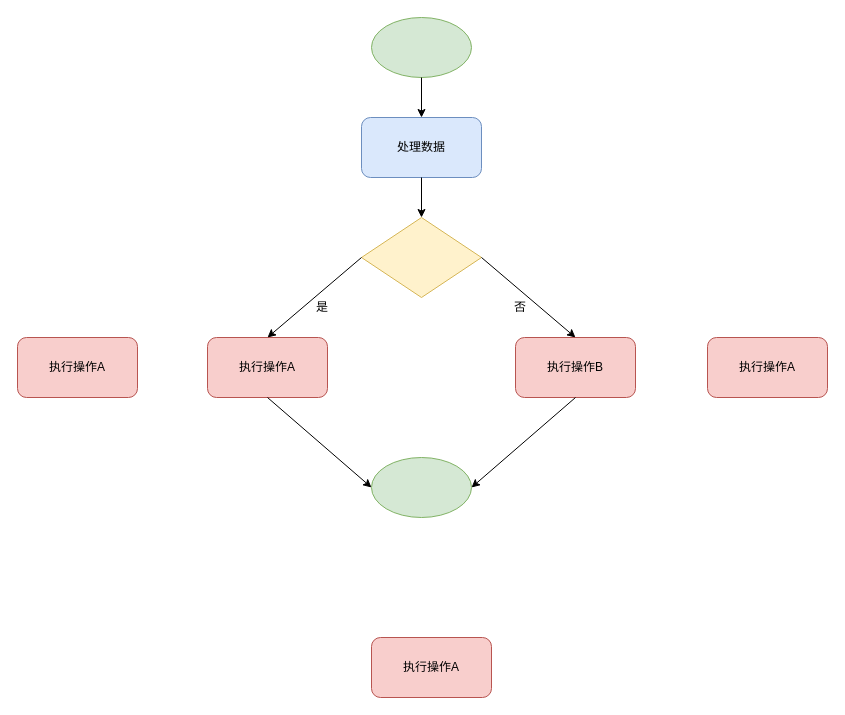
This 845x715 diagram has some shape labels left out. The shapes that lost their labels are listed below. From the top down, each one's box as (x1, y1, x2, y2) in pixels, then its label:
(370, 16, 472, 78): 开始
(360, 216, 482, 298): 判断条件
(370, 456, 472, 518): 结束
